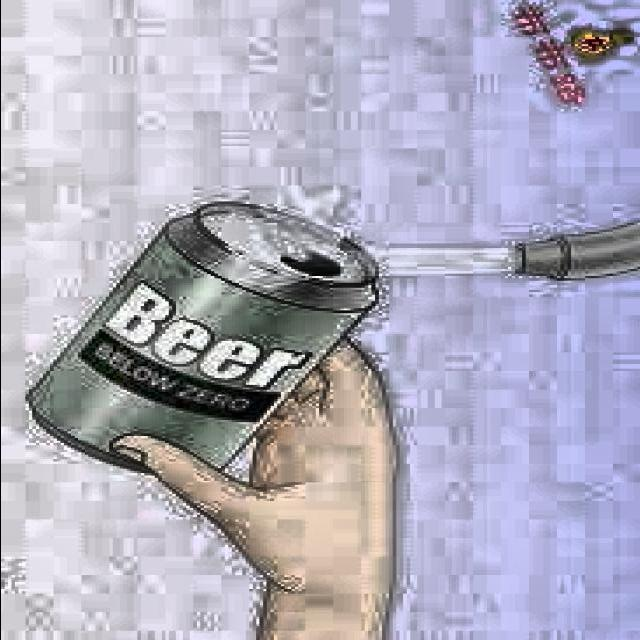litter: (16, 198, 380, 480)
